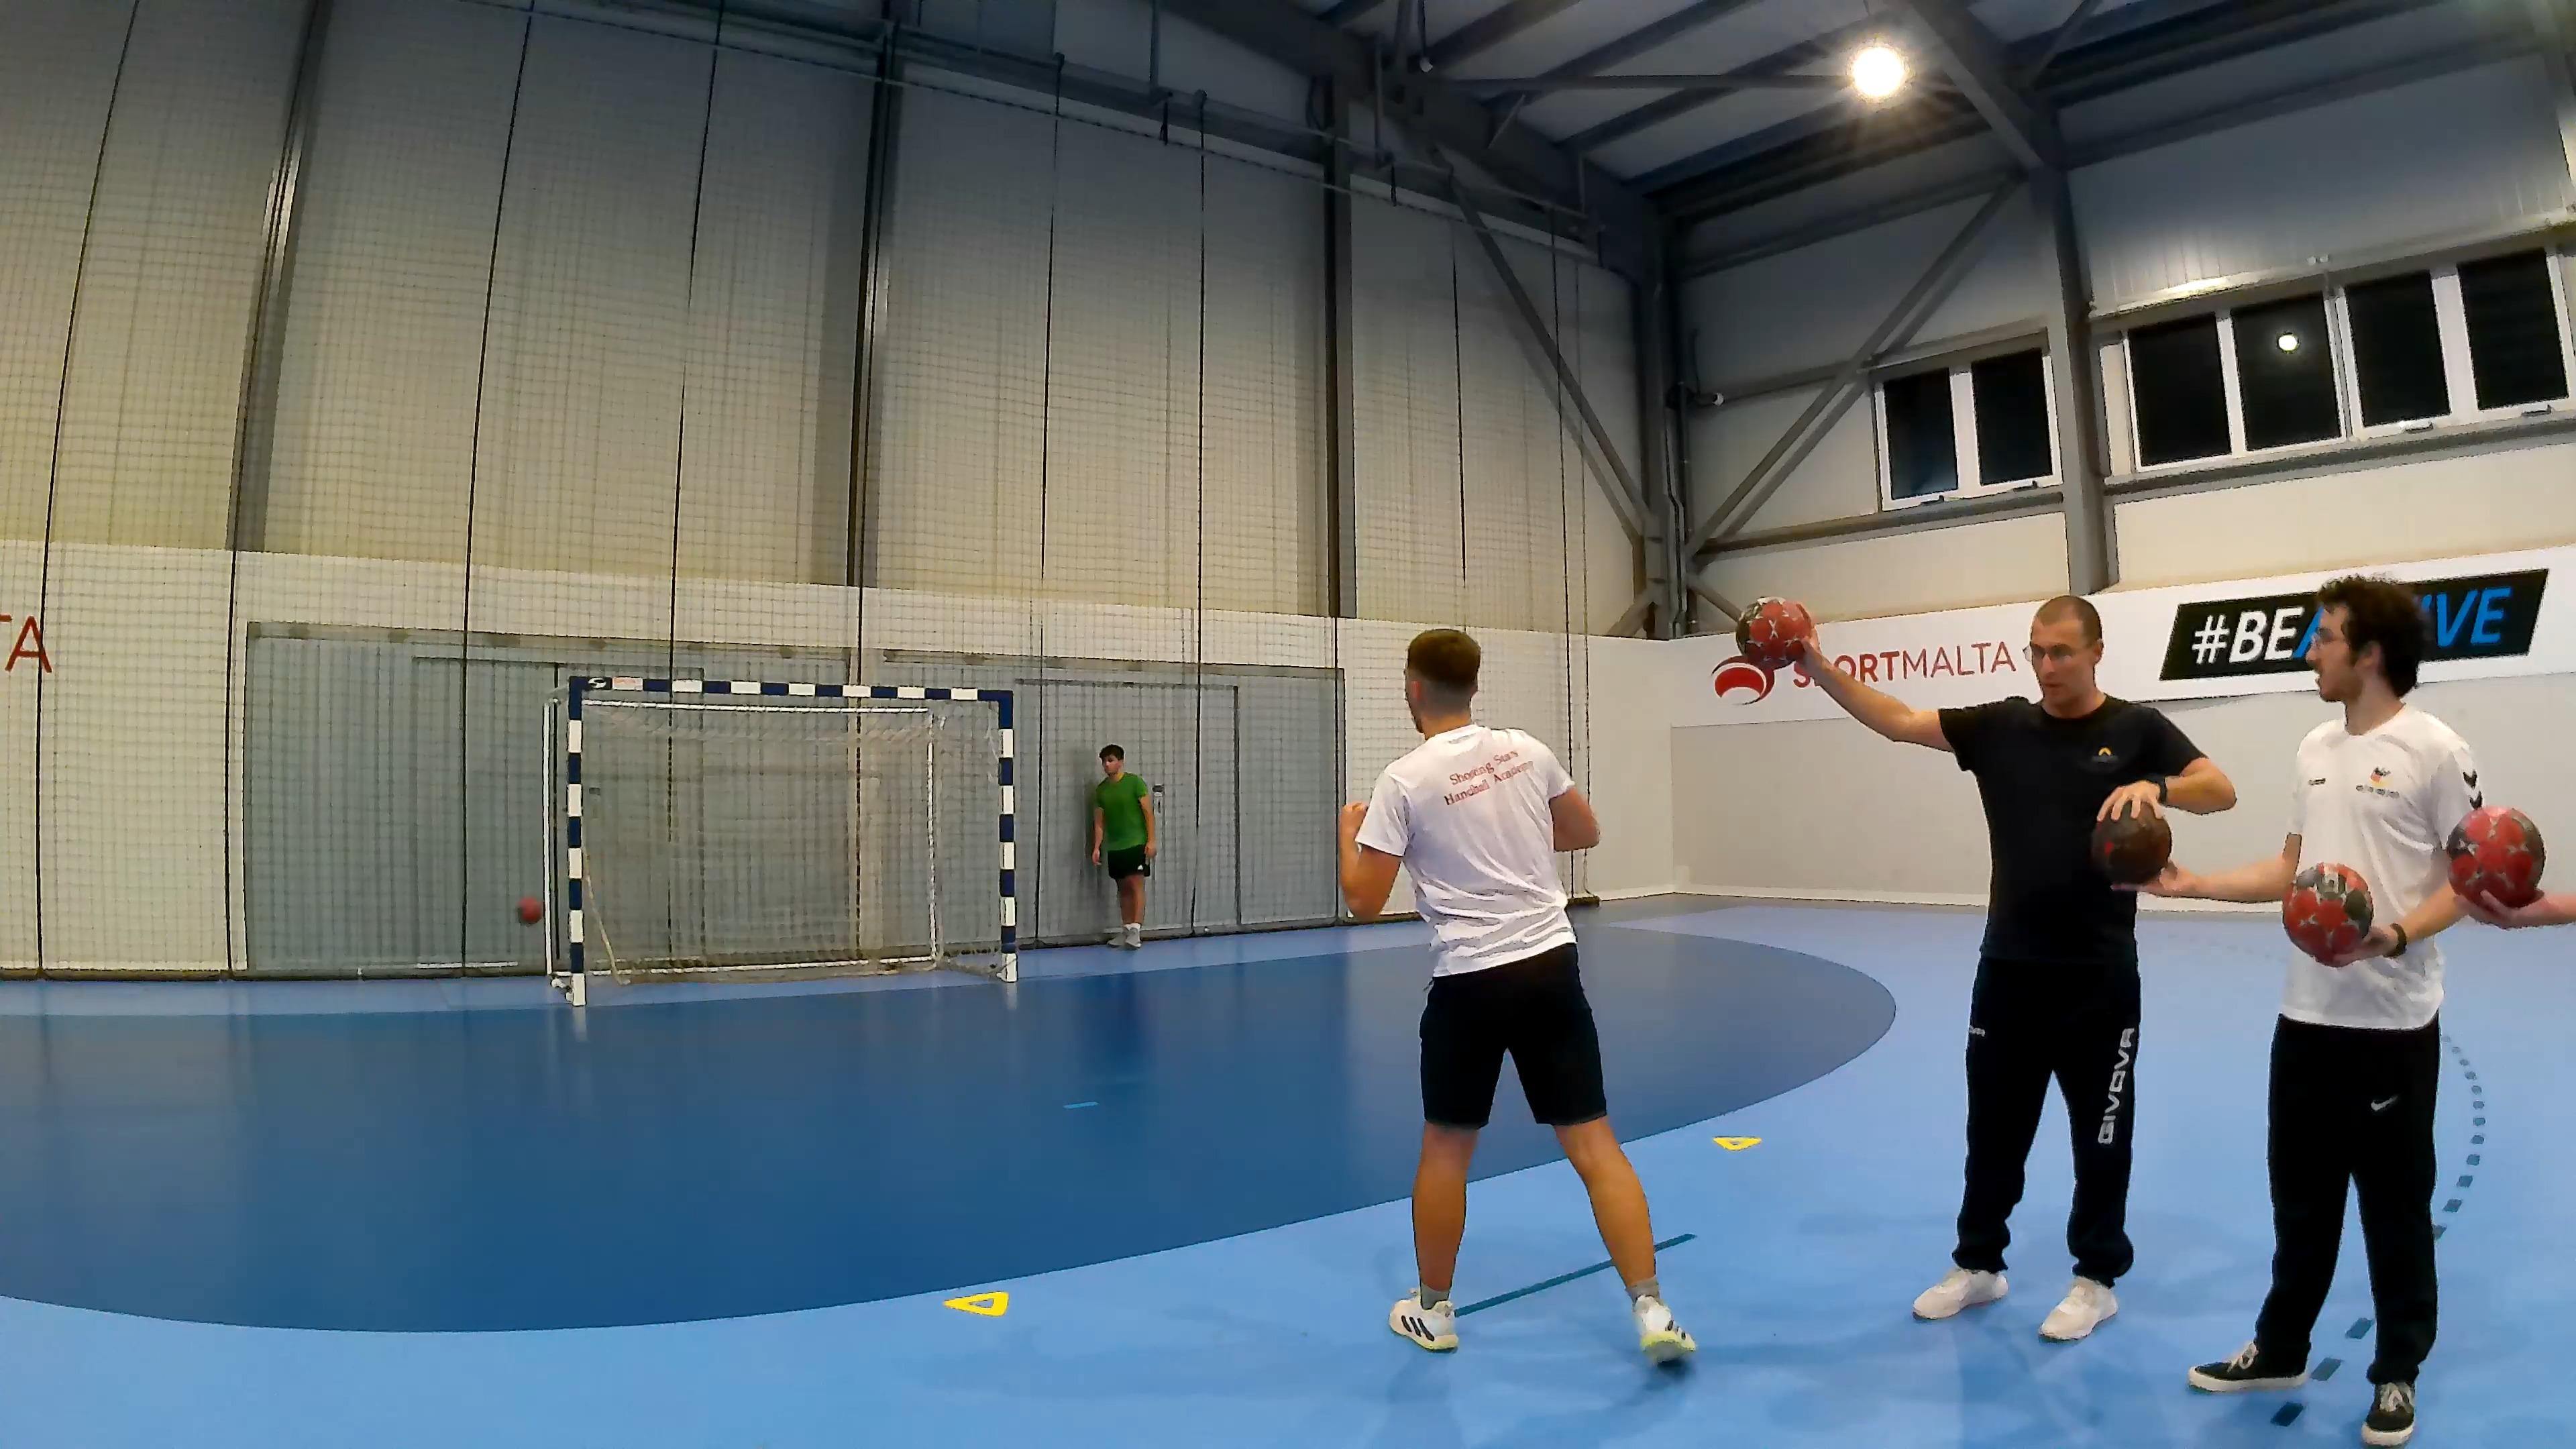handball: (2445, 803, 2546, 911), (2282, 860, 2373, 962), (2089, 809, 2171, 886), (1734, 596, 1815, 667), (515, 895, 547, 929)
